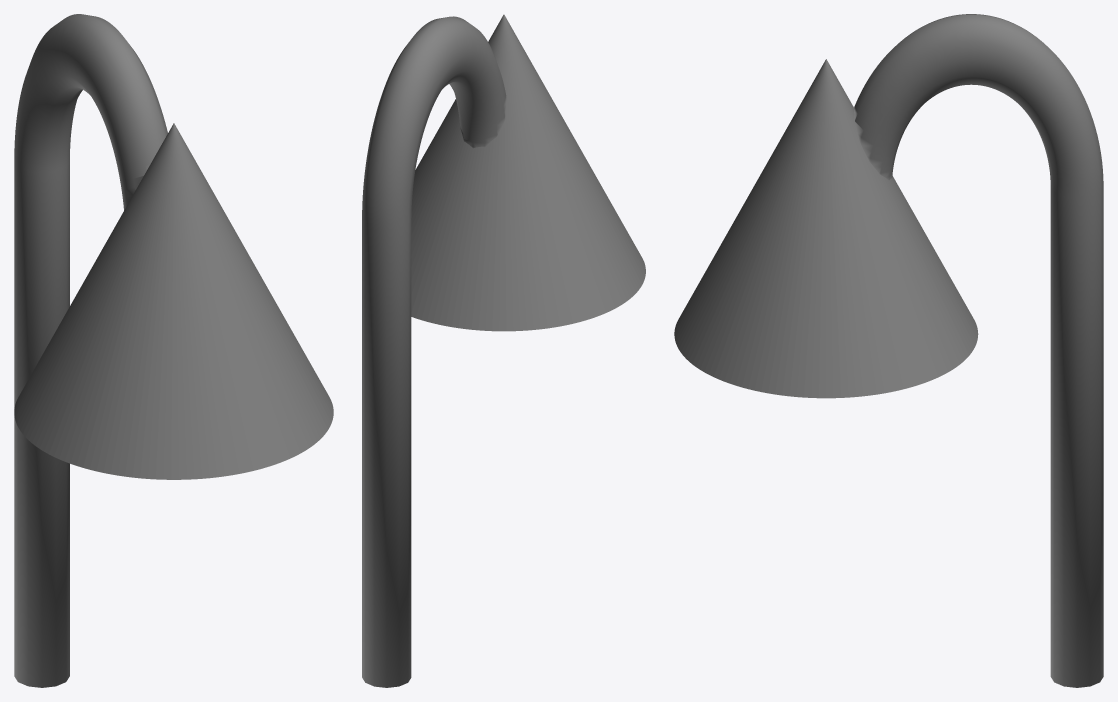
Rendered from lamp.obj.
3 views of the same model, side by side, from view 1: azimuth 30°, elevation 25°; view 2: azimuth 150°, elevation 25°; view 3: azimuth 270°, elevation 25° (orthographic). The views are drawn at different scales.
Parts seen in each view (by area): view 1: Torus; view 2: Torus; view 3: Torus.
Boxes of the visible parts, <box> form: Torus: <box>14,14,333,687</box>; Torus: <box>362,14,645,687</box>; Torus: <box>674,14,1103,687</box>.
Size of the model in its own units: 2 by 4.81 by 2.83.
